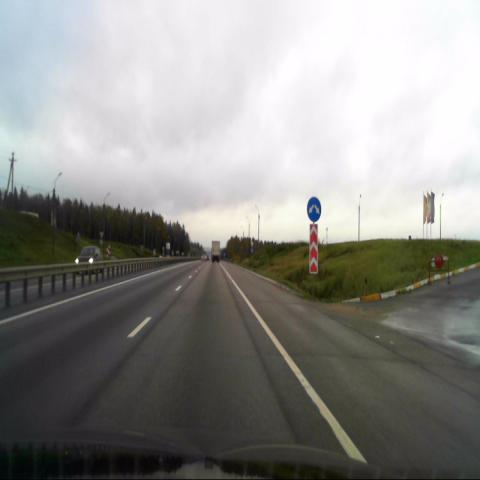4_2_3: (307, 196, 321, 221)
